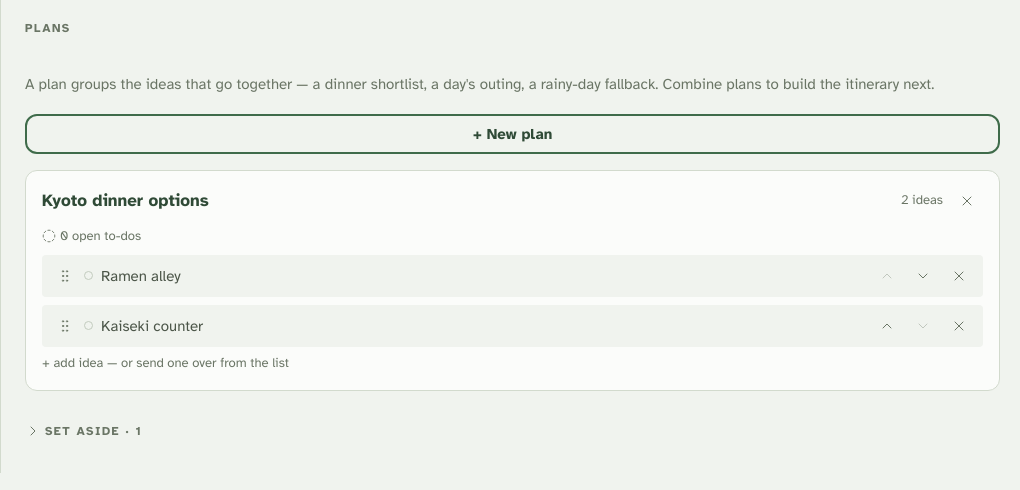
Test: BundlePanel — the plans-only rail › opens a naming row in the rail rather than a modal
Click the button "+ New plan" at (512, 134), box [25,114,1000,154]
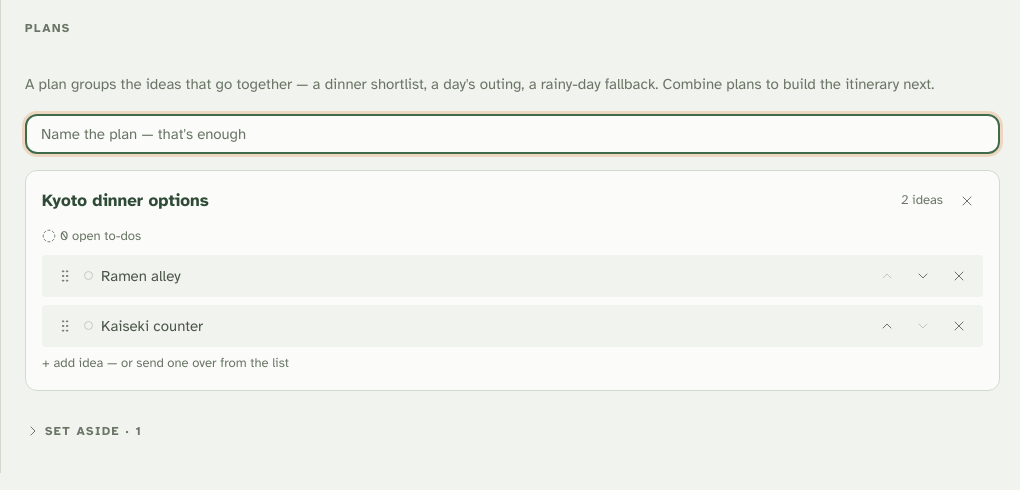
Result: the field named "Name a new plan" is shown at [25,114,1000,154]
Result: the button "+ New plan" is gone
